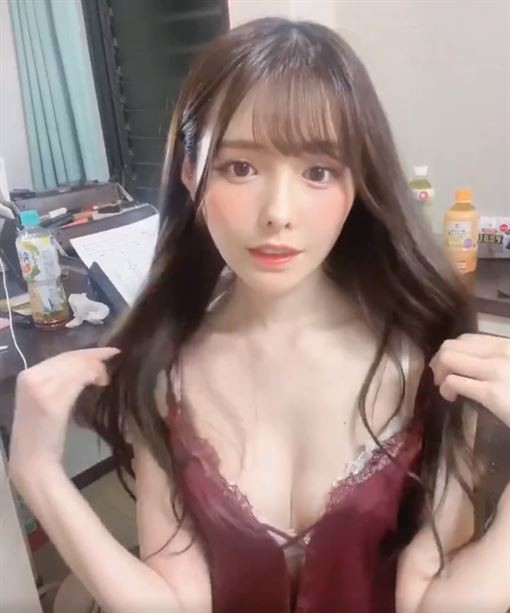people: (144, 14, 432, 613)
